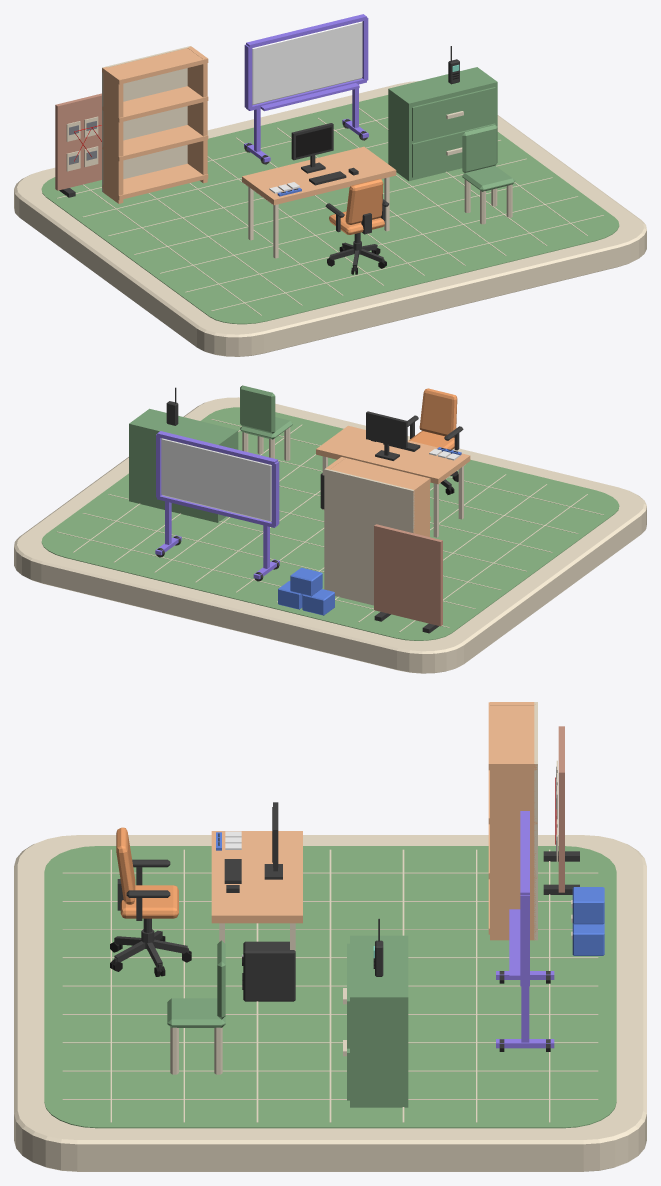
3 views of the same model, one above another, from view 1: azimuth 30°, elevation 25°; view 2: azimuth 150°, elevation 25°; view 3: azimuth 270°, elevation 25° (orthographic). The views are drawn at different scales.
Parts seen in each view (by area): view 1: COM-02 Floor Surface, COM-01 Rounded Base Direct, Cabinet, Writing surface, Top, Back, Panel, COM-04_Chair_blender_direct, Side, Side.001, Shelf.003, Shelf.002 (+9 smaller); view 2: COM-02 Floor Surface, COM-01 Rounded Base Direct, Back, Writing surface, Panel, Cabinet, Top, COM-04_Chair_blender_direct, Backrest, Frame, Shelf.003, Frame rail.001 (+7 smaller); view 3: COM-02 Floor Surface, COM-01 Rounded Base Direct, Cabinet, Top, Side.001, COM-04_Chair_blender_direct, Tower, Shelf.003, Seat, Stacked case.002, Panel, Stacked case.001 (+12 smaller).
Boxes of the visible parts, x1=… form: COM-02 Floor Surface: x1=41, y1=95, x2=619, y2=324; COM-01 Rounded Base Direct: x1=14, y1=81, x2=646, y2=356; Cabinet: x1=388, y1=67, x2=497, y2=180; Writing surface: x1=252, y1=21, x2=362, y2=105; Top: x1=242, y1=146, x2=396, y2=258; Back: x1=102, y1=46, x2=191, y2=192; Panel: x1=55, y1=93, x2=101, y2=190; COM-04_Chair_blender_direct: x1=325, y1=179, x2=388, y2=274; Side: x1=103, y1=67, x2=123, y2=203; Side.001: x1=187, y1=46, x2=207, y2=183; Shelf.003: x1=102, y1=48, x2=208, y2=84; Shelf.002: x1=102, y1=86, x2=208, y2=122; COM-02 Floor Surface: x1=41, y1=407, x2=619, y2=640; COM-01 Rounded Base Direct: x1=14, y1=397, x2=646, y2=673; Back: x1=324, y1=468, x2=414, y2=605; Writing surface: x1=161, y1=438, x2=271, y2=521; Panel: x1=374, y1=524, x2=442, y2=626; Cabinet: x1=129, y1=408, x2=238, y2=522; Top: x1=316, y1=425, x2=470, y2=537; COM-04_Chair_blender_direct: x1=407, y1=388, x2=463, y2=494; Backrest: x1=240, y1=385, x2=275, y2=433; Frame: x1=366, y1=411, x2=407, y2=460; Shelf.003: x1=330, y1=457, x2=430, y2=494; Frame rail.001: x1=157, y1=431, x2=277, y2=465; COM-02 Floor Surface: x1=44, y1=846, x2=616, y2=1128; COM-01 Rounded Base Direct: x1=14, y1=835, x2=646, y2=1171; Cabinet: x1=343, y1=935, x2=408, y2=1107; Top: x1=211, y1=831, x2=302, y2=950; Side.001: x1=490, y1=760, x2=535, y2=940; COM-04_Chair_blender_direct: x1=110, y1=827, x2=191, y2=976; Tower: x1=243, y1=941, x2=295, y2=1001; Shelf.003: x1=488, y1=702, x2=537, y2=770; Seat: x1=167, y1=998, x2=225, y2=1027; Stacked case.002: x1=572, y1=887, x2=604, y2=924; Panel: x1=558, y1=726, x2=564, y2=892; Stacked case.001: x1=572, y1=923, x2=604, y2=955.
Bounding box in the file's own units: 6 × 1.9 × 5.2.
Materials: 1 (1 with a texture image).
